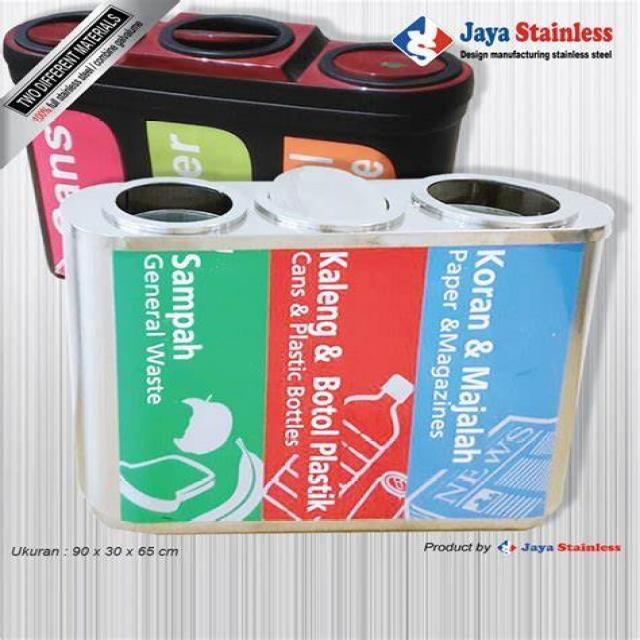garbage container: (57, 156, 640, 541), (9, 7, 482, 169)
